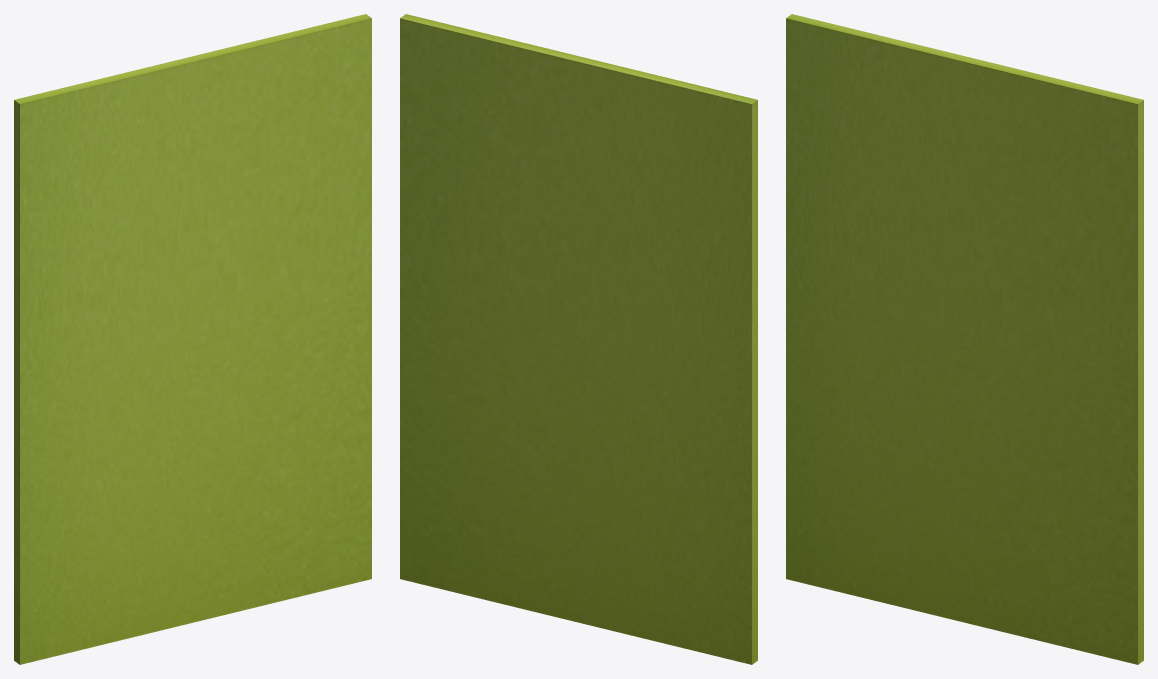
The model's file is bathroom wall.FBX.
3 renders of one model, left to right at view 1: azimuth 30°, elevation 25°; view 2: azimuth 150°, elevation 25°; view 3: azimuth 330°, elevation 25°, orthographic.
Parts seen in each view (by area): view 1: Box001; view 2: Box001; view 3: Box001.
Boxes of the visible parts, left/top/right/bottom form: Box001: left=14, top=14, right=371, bottom=664; Box001: left=400, top=14, right=757, bottom=664; Box001: left=786, top=14, right=1143, bottom=664.
Bounding box in the file's own units: 96.76 × 147 × 2.82.
Materials: 1 (1 with a texture image).
